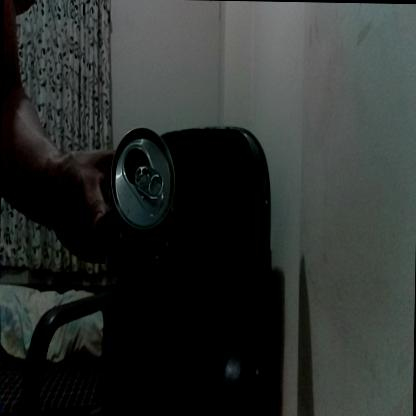alumunium_can: (102, 126, 176, 307)
